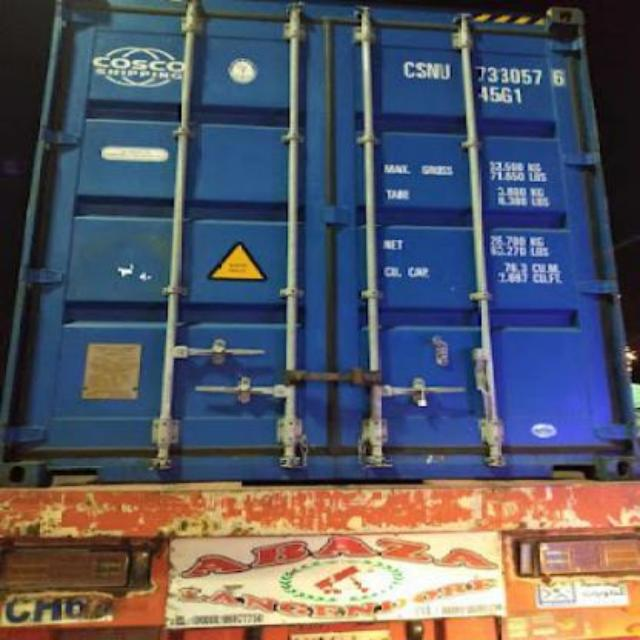0: (508, 61, 522, 87)
3: (496, 62, 508, 84), (486, 61, 496, 87)
5: (520, 58, 532, 88)
6: (550, 66, 570, 88)
7: (530, 60, 544, 90), (474, 61, 486, 85)
C: (402, 54, 416, 82)
N: (426, 56, 438, 86)
S: (416, 56, 426, 86)
U: (438, 58, 450, 86)
